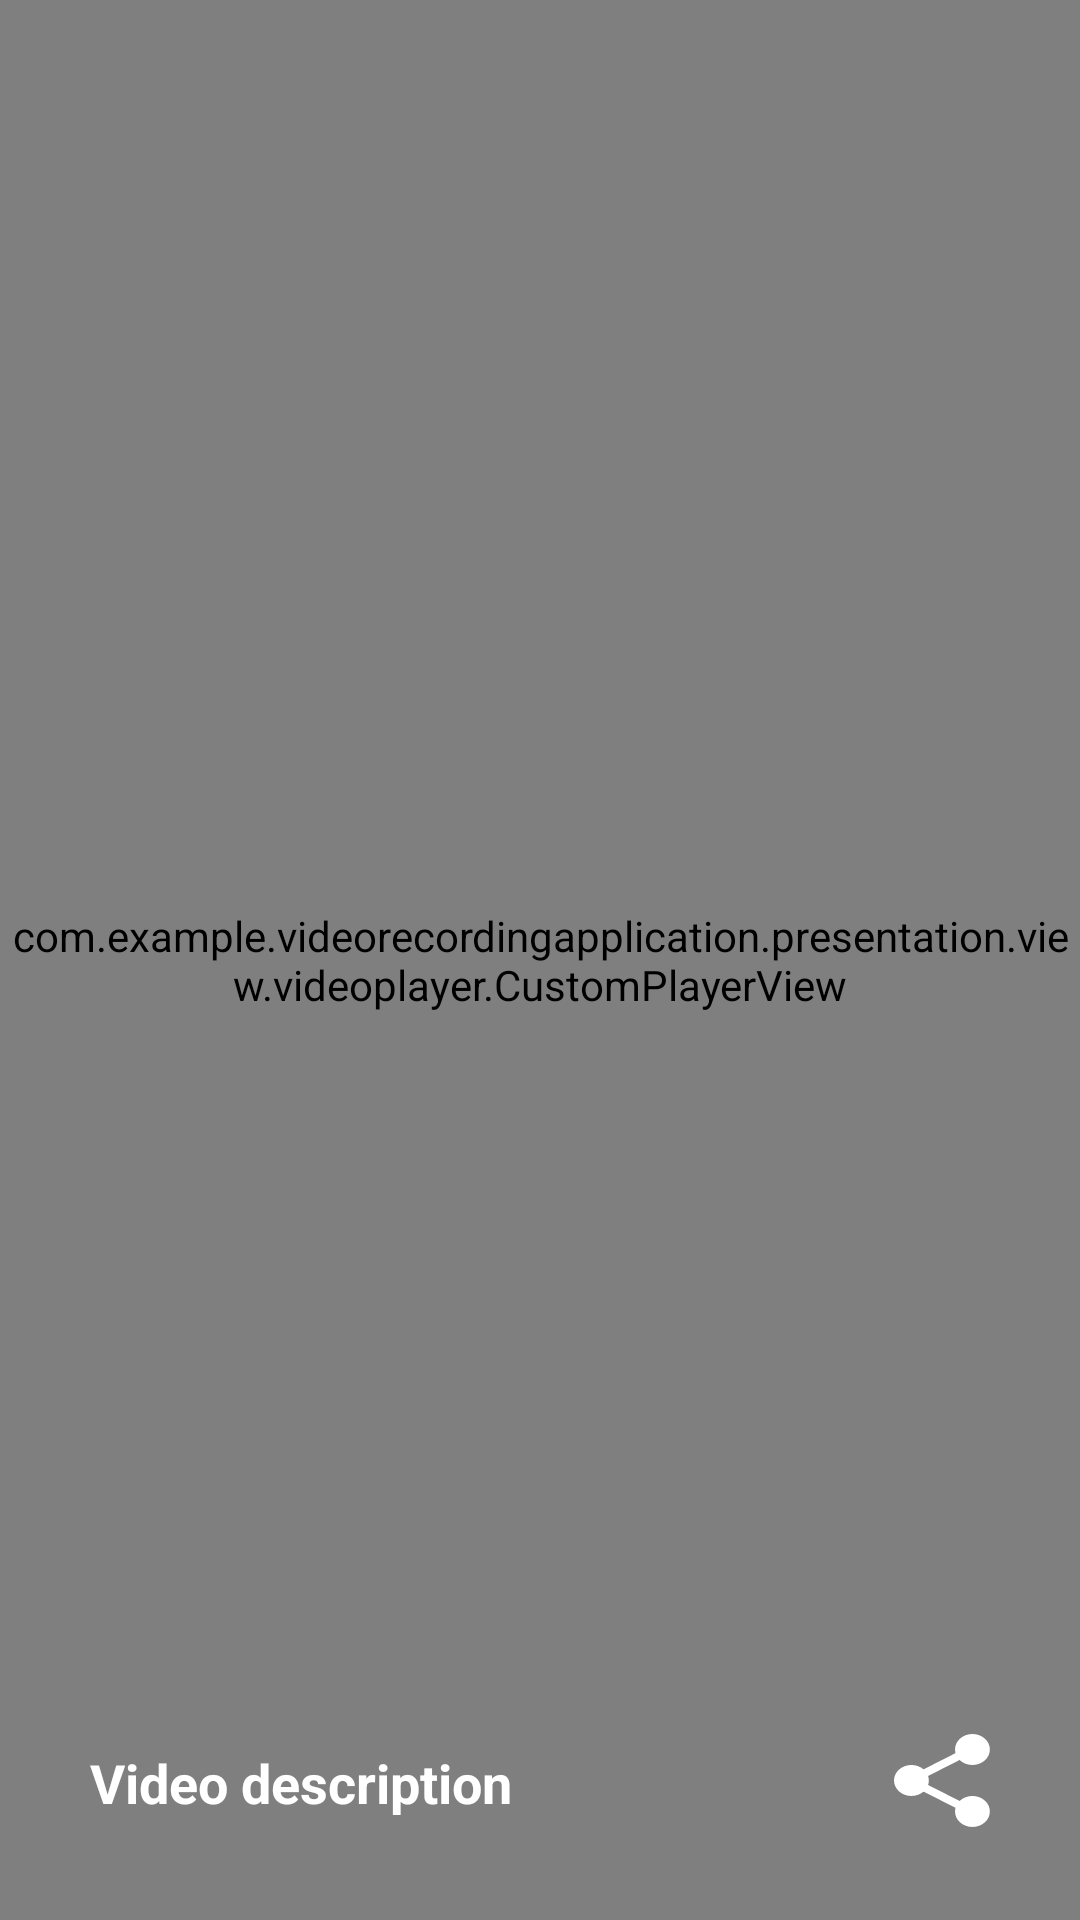

Named icons in this screenshot (1080px×1920px) and their centers, (x,y):
share: (942,1780)
